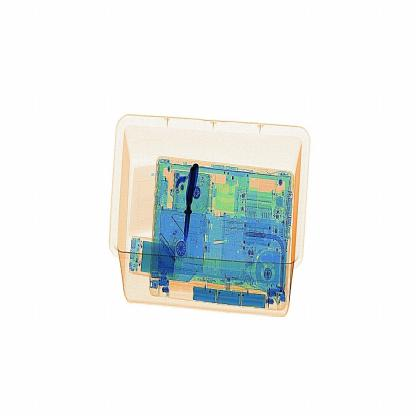gun: (178, 156, 206, 258)
